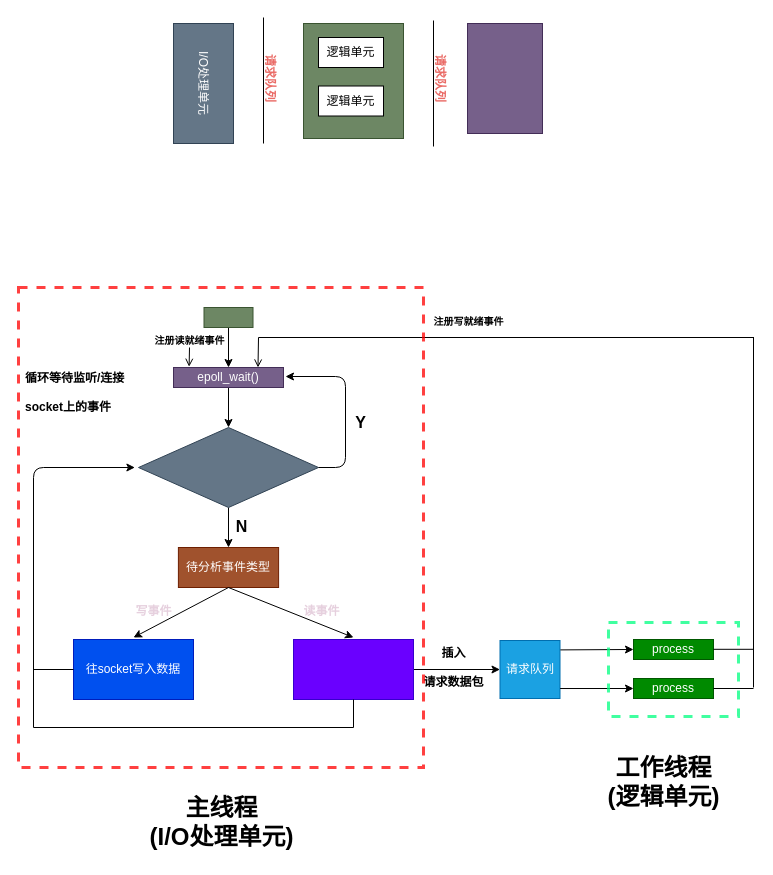
Some shapes in this 773 by 875 pixel diagram are drawn without their labels. Here are the shapes that lost their labels. From the top down, the centre of each, then its label:
At point (504, 78): "网络存储单元(可选)".
At point (228, 317): "开始".
At point (228, 467): "所有就绪的文件描述符 都处理完毕".
At point (353, 669): "循环读入客户数据".
